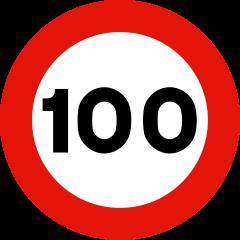Speed Limit -100-: (31, 75, 208, 170)
